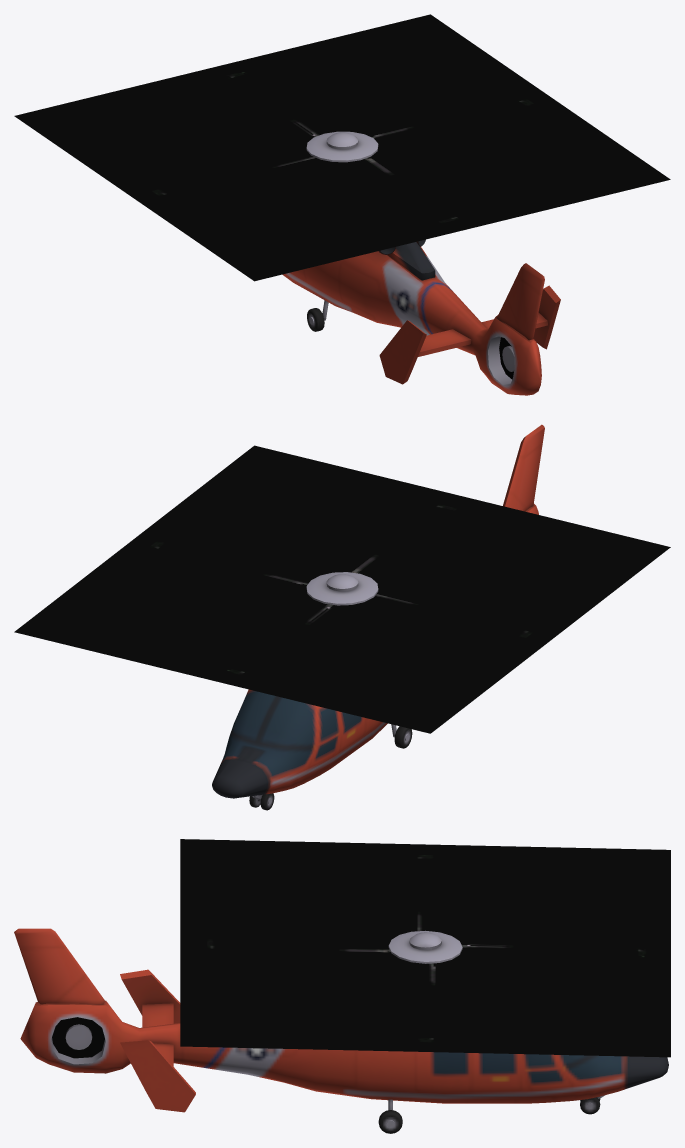
3 renders of one model, top to bottom at view 1: azimuth 30°, elevation 25°; view 2: azimuth 150°, elevation 25°; view 3: azimuth 270°, elevation 25°, orthographic. The views are drawn at different scales.
Parts seen in each view (by area): view 1: rotor, hull; view 2: rotor, hull; view 3: rotor, hull, rear rotor.
Part boxes in pixels (<box>): rotor: <box>14,14,670,281</box>; hull: <box>282,131,560,395</box>; rotor: <box>14,445,670,733</box>; hull: <box>212,424,544,810</box>; rotor: <box>180,839,670,1057</box>; hull: <box>14,928,668,1133</box>; rear rotor: <box>52,1017,104,1058</box>.
Size of the model in its own units: 8.68 by 11.62 by 3.56.
Materials: 2 (2 with a texture image).
